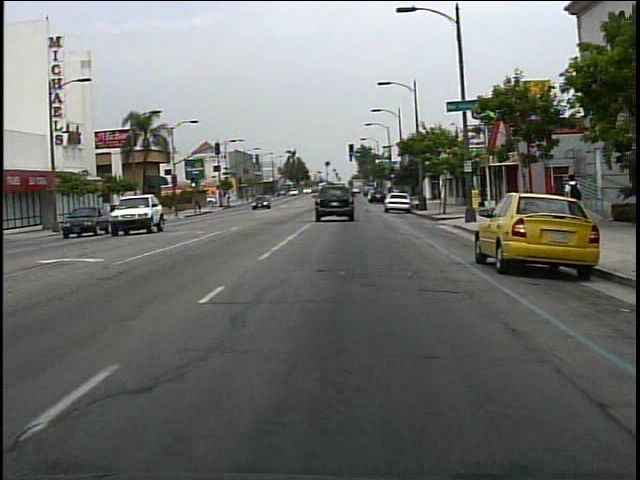person: (556, 169, 586, 219)
